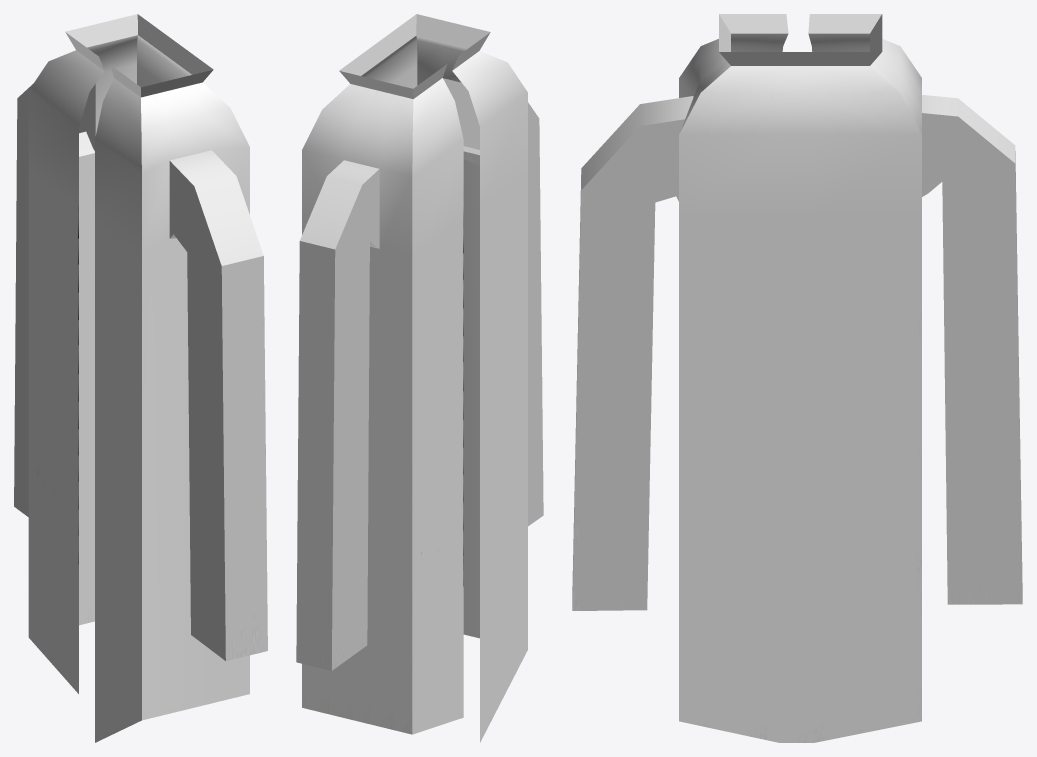
Rendered from LabCoat.fbx.
3 renders of one model, left to right at view 1: azimuth 30°, elevation 25°; view 2: azimuth 150°, elevation 25°; view 3: azimuth 270°, elevation 25°, orthographic. The views are drawn at different scales.
Visible parts, largest first — view 1: LabCoat; view 2: LabCoat; view 3: LabCoat.
Part boxes in pixels (left/top/right/bottom): LabCoat: left=14, top=14, right=267, bottom=742; LabCoat: left=296, top=14, right=543, bottom=742; LabCoat: left=572, top=14, right=1022, bottom=742.
Bounding box in the file's own units: 7.06 × 41.88 × 23.7.
Materials: 1 (1 with a texture image).
